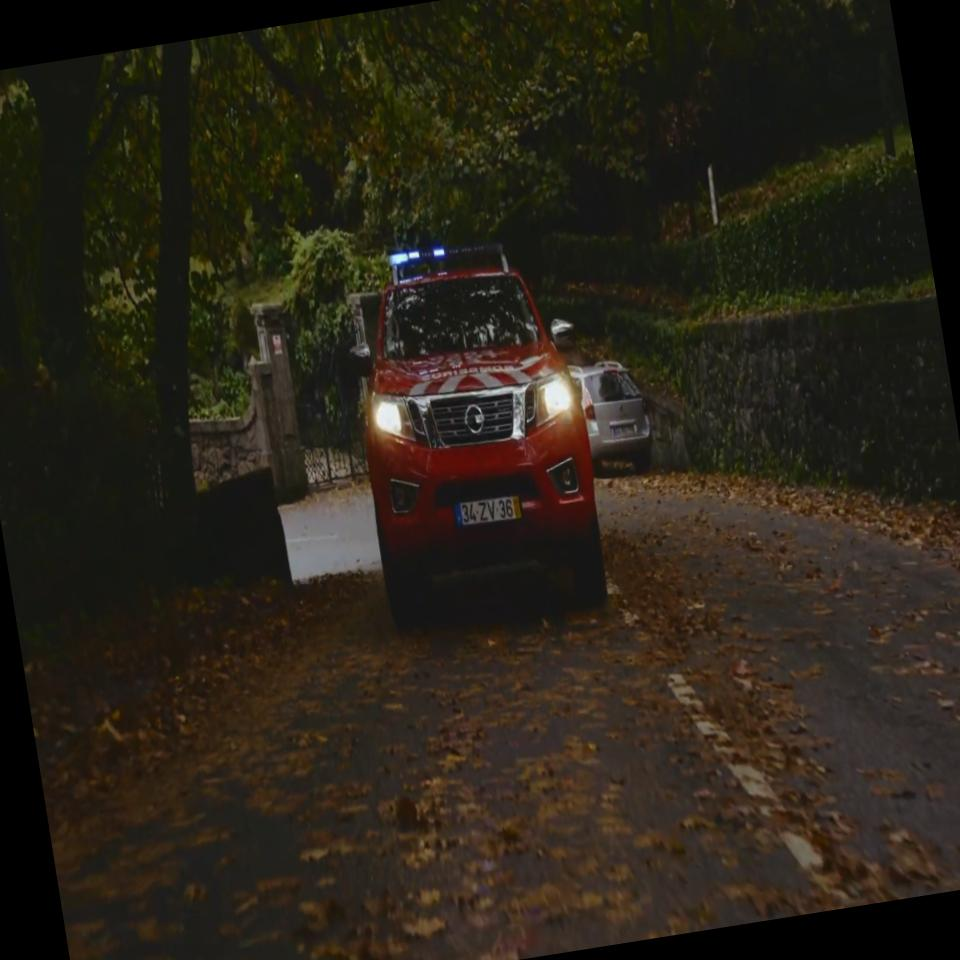viatura: (336, 228, 618, 634)
